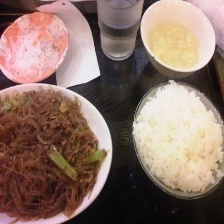rice: (130, 80, 224, 198)
